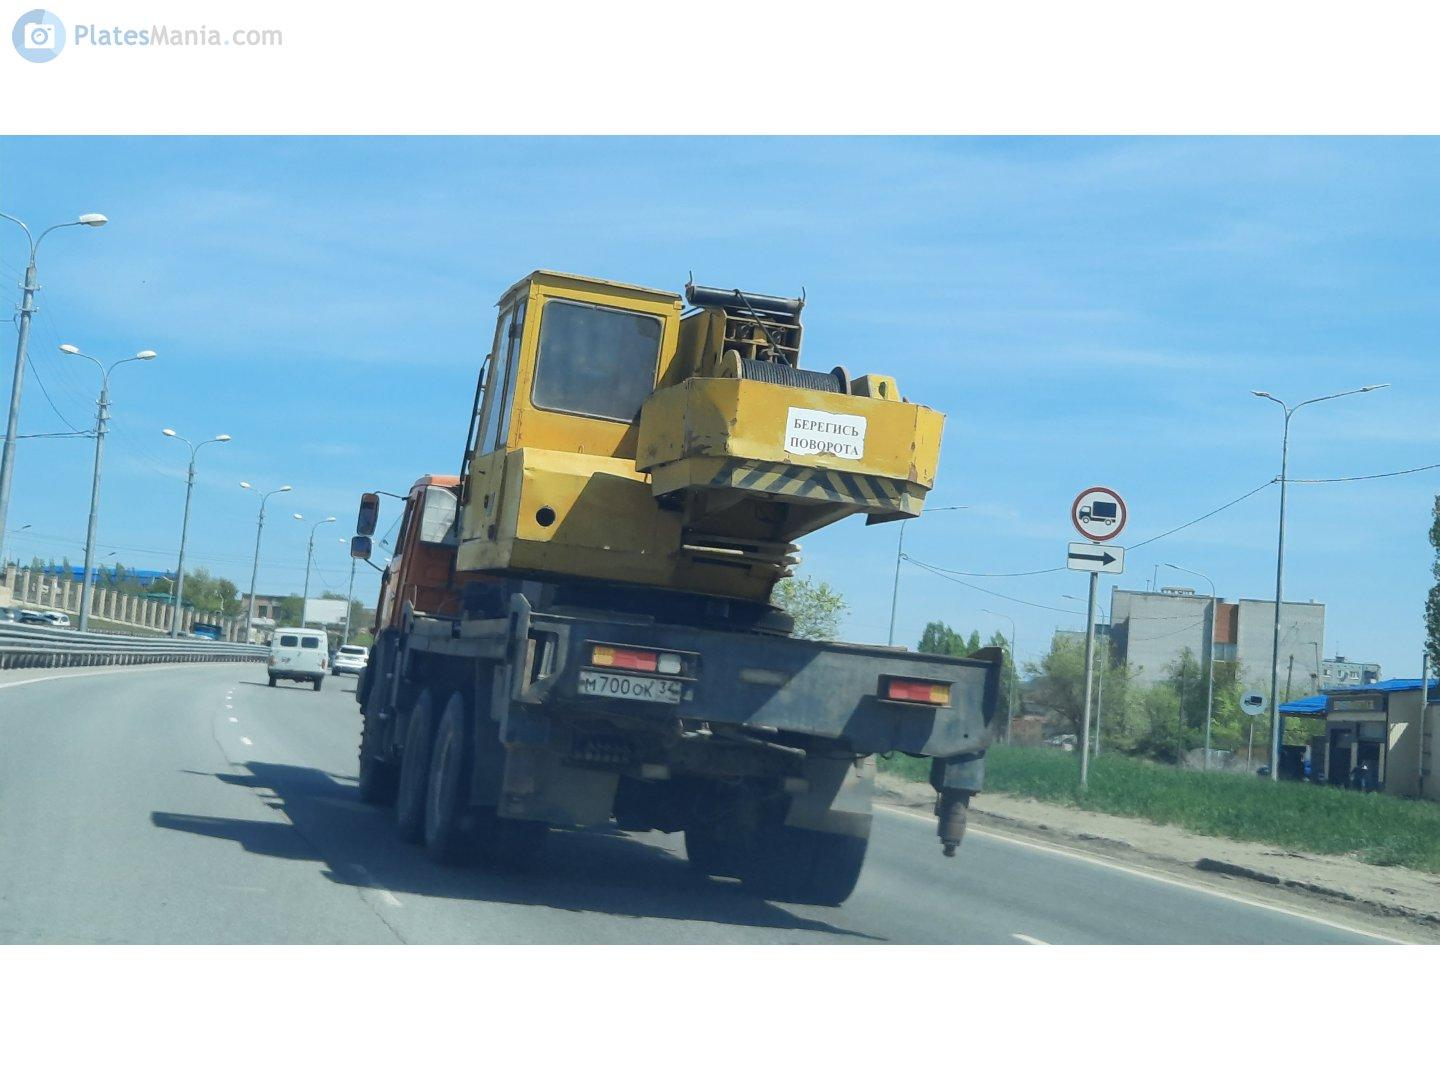license-plateSW: (579, 670, 691, 701)
